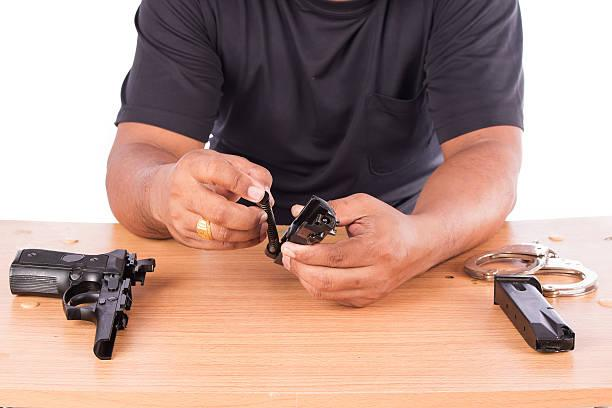weapon: (6, 242, 159, 362)
